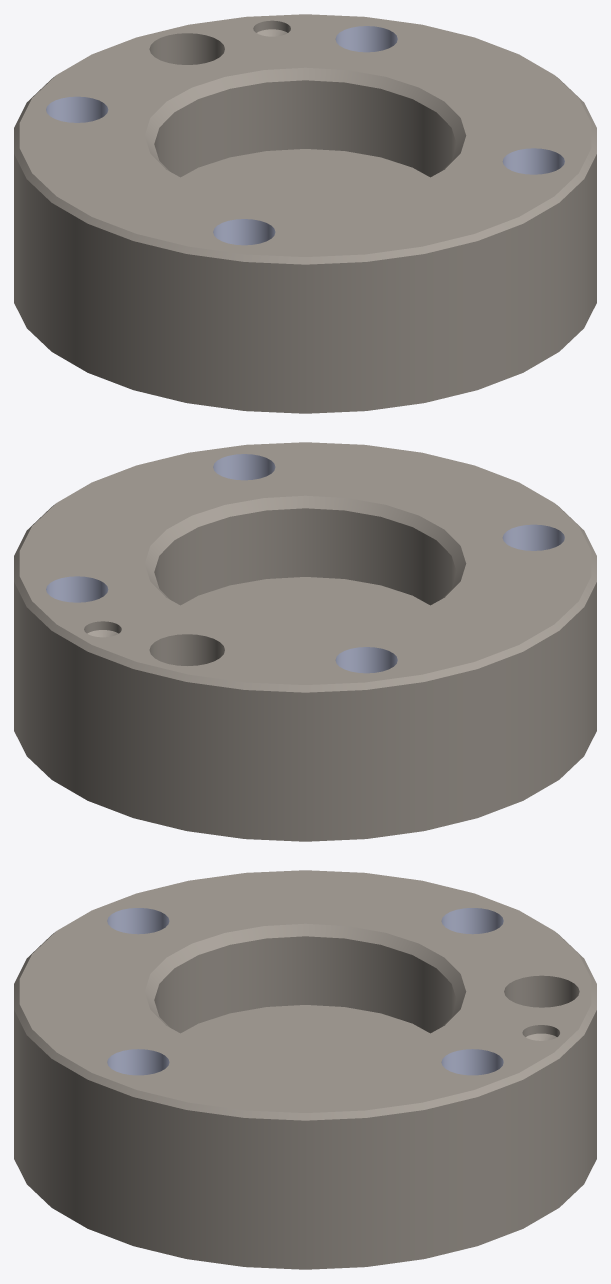
3 renders of one model, top to bottom at view 1: azimuth 30°, elevation 25°; view 2: azimuth 150°, elevation 25°; view 3: azimuth 270°, elevation 25°, orthographic.
Parts seen in each view (by area): view 1: _3DGeom-20, _3DGeom-21; view 2: _3DGeom-20, _3DGeom-21; view 3: _3DGeom-20, _3DGeom-21.
Part boxes in pixels (left/top/right/bottom): _3DGeom-20: left=14, top=14, right=596, bottom=413; _3DGeom-21: left=46, top=26, right=564, bottom=245; _3DGeom-20: left=14, top=442, right=596, bottom=841; _3DGeom-21: left=46, top=454, right=564, bottom=673; _3DGeom-20: left=14, top=870, right=596, bottom=1269; _3DGeom-21: left=107, top=908, right=503, bottom=1075.
Bounding box in the file's own units: 0.031 × 0.0308 × 0.009.
